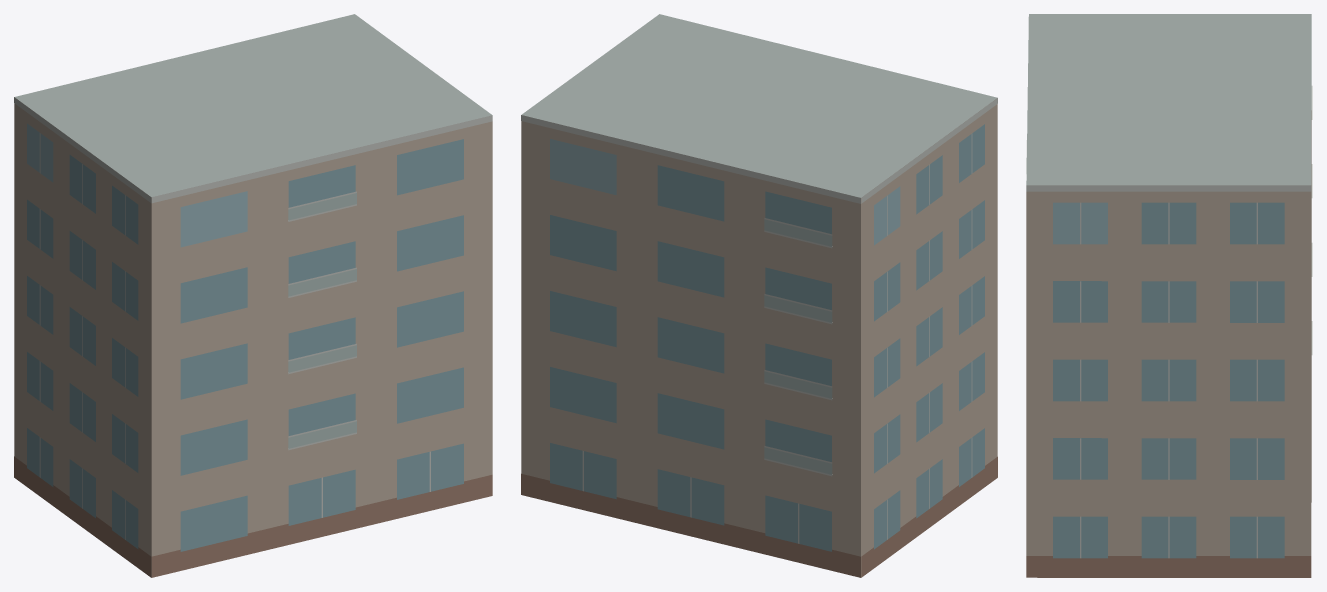
Rendered from survey-upis-32941042.glb.
3 renders of one model, left to right at view 1: azimuth 30°, elevation 25°; view 2: azimuth 150°, elevation 25°; view 3: azimuth 270°, elevation 25°, orthographic. The views are drawn at different scales.
Visible parts, largest first — view 1: survey-upis-32941042.tmp; view 2: survey-upis-32941042.tmp; view 3: survey-upis-32941042.tmp.
Boxes of the visible parts, x1,y1,x2,y2 form: survey-upis-32941042.tmp: (14, 14, 492, 577); survey-upis-32941042.tmp: (521, 14, 997, 577); survey-upis-32941042.tmp: (1026, 14, 1312, 577).
Size of the model in its own units: 14.29 by 15.25 by 10.09.
